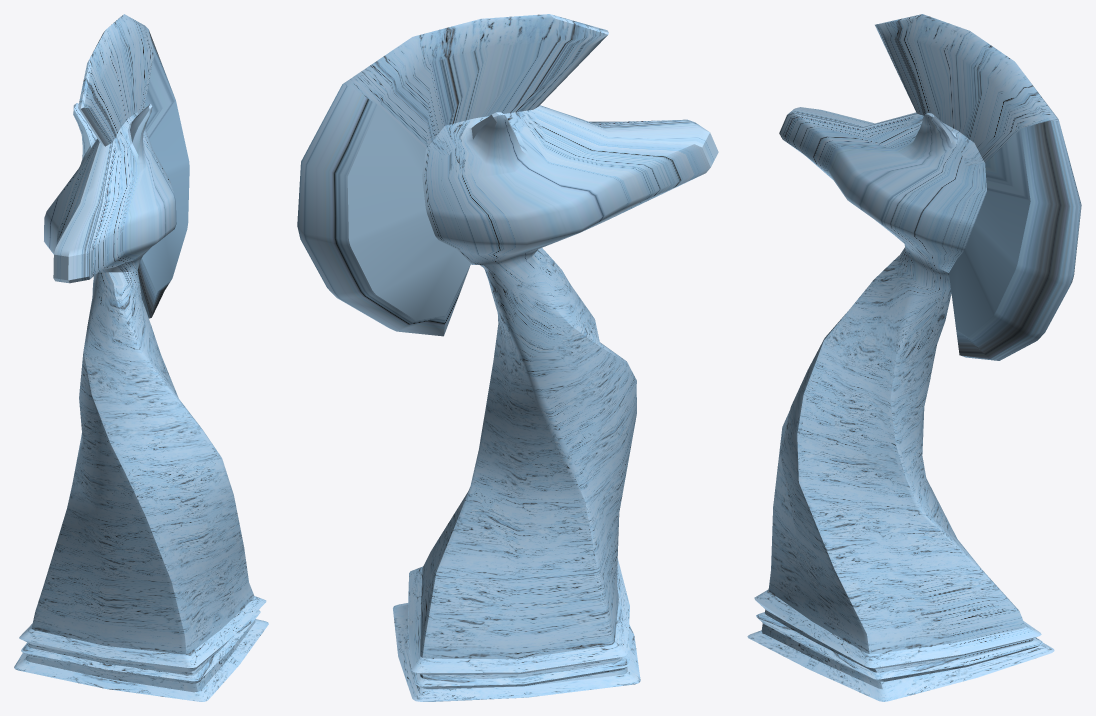
The model's file is Caballo.fbx.
3 views of the same model, side by side, from view 1: azimuth 30°, elevation 25°; view 2: azimuth 150°, elevation 25°; view 3: azimuth 270°, elevation 25° (orthographic). The views are drawn at different scales.
Parts seen in each view (by area): view 1: Caballo; view 2: Caballo; view 3: Caballo.
Part boxes in pixels (x1=…): Caballo: x1=14, y1=14, x2=268, y2=701; Caballo: x1=297, y1=14, x2=718, y2=701; Caballo: x1=747, y1=14, x2=1081, y2=701.
Size of the model in its own units: 85.41 by 194 by 95.54.
Materials: 1 (1 with a texture image).
